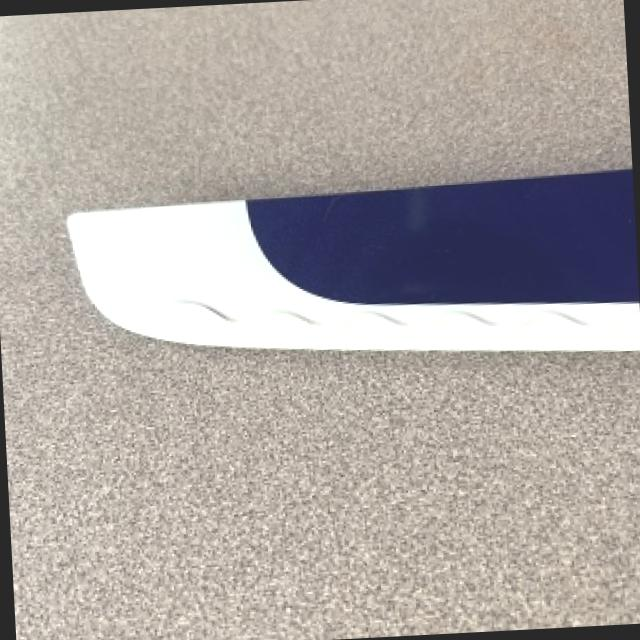healthy: (71, 167, 640, 348)
